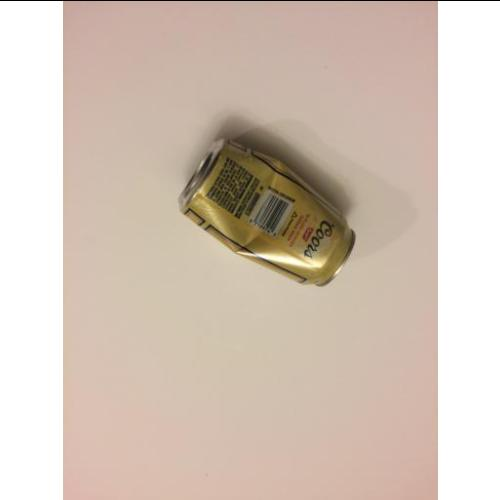metal: (181, 134, 356, 286)
